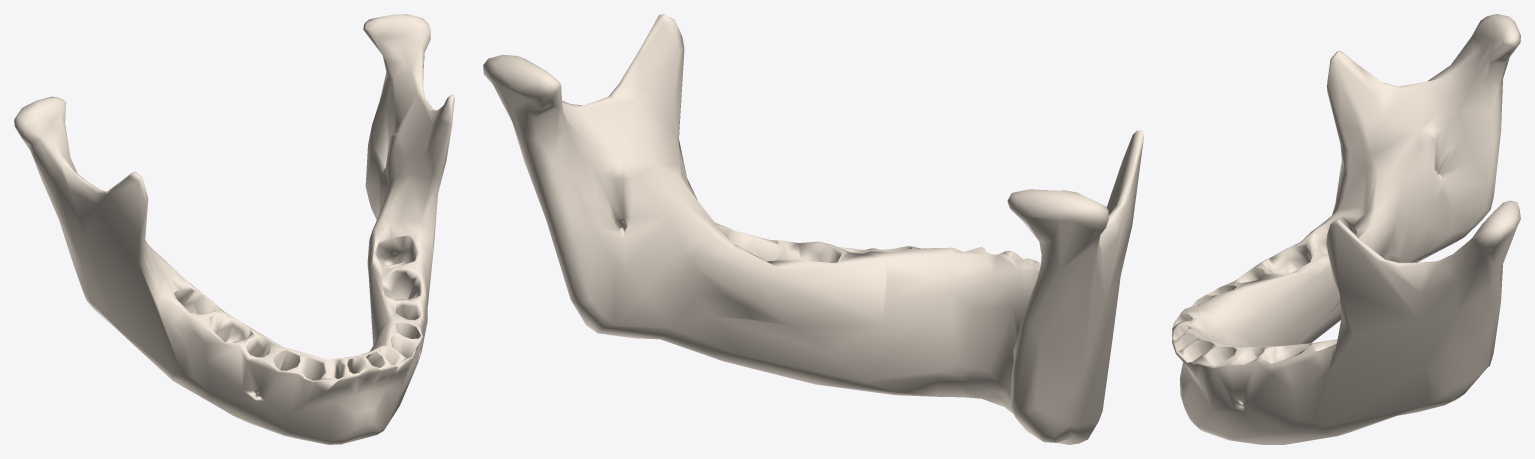
The model's file is mandible.glb.
The picture shows the model from 3 angles, left to right: view 1: azimuth 30°, elevation 25°; view 2: azimuth 150°, elevation 25°; view 3: azimuth 270°, elevation 25°; orthographic projection. The views are drawn at different scales.
Visible parts, largest first — view 1: Mandible bone; view 2: Mandible bone; view 3: Mandible bone.
Boxes of the visible parts, <box> form: Mandible bone: <box>14,14,454,444</box>; Mandible bone: <box>483,14,1143,444</box>; Mandible bone: <box>1172,14,1520,444</box>.
Bounding box in the file's own units: 0.1147 × 0.075 × 0.0773.
